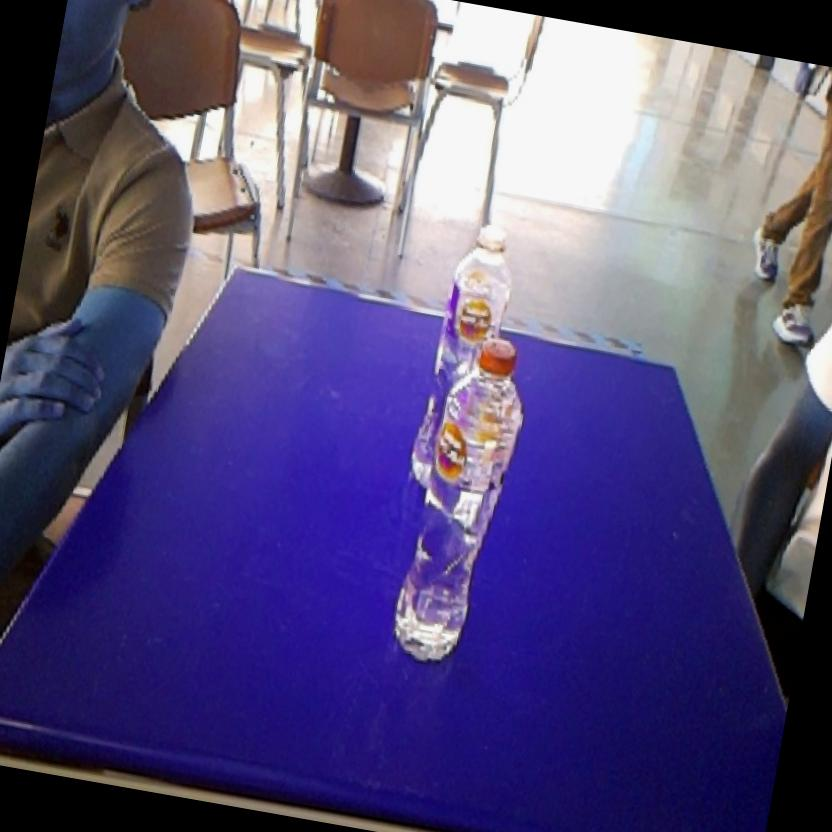good: (380, 322, 540, 680)
no_cap: (432, 210, 538, 338)
